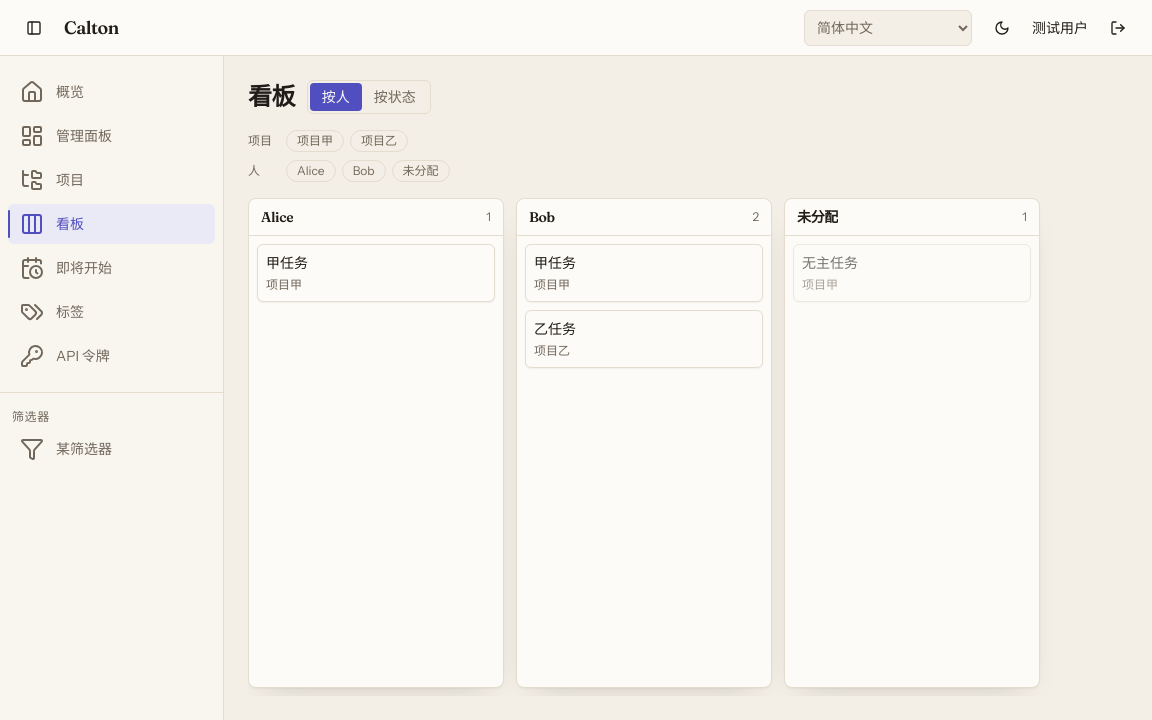
Scenario: 全局按人看板 › 项目过滤：只保留选中项目的任务
Note: 选「项目甲」→ 只剩 project 1 的任务（甲任务、无主任务），乙任务消失
Click the button with test id "board-project-chip" showing "项目甲": {"x": 315, "y": 141} [286,130,344,152]
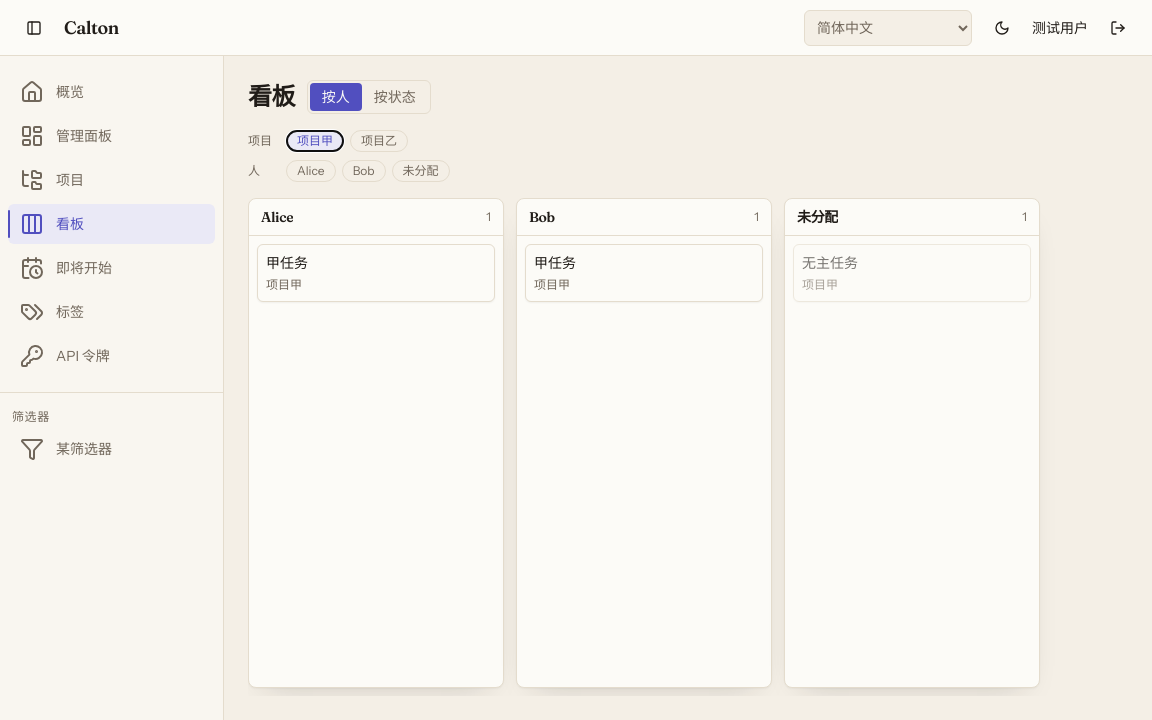
Check: the 1st link "甲任务" is shown, box [266,254,308,272]
Check: the link "乙任务" is gone
